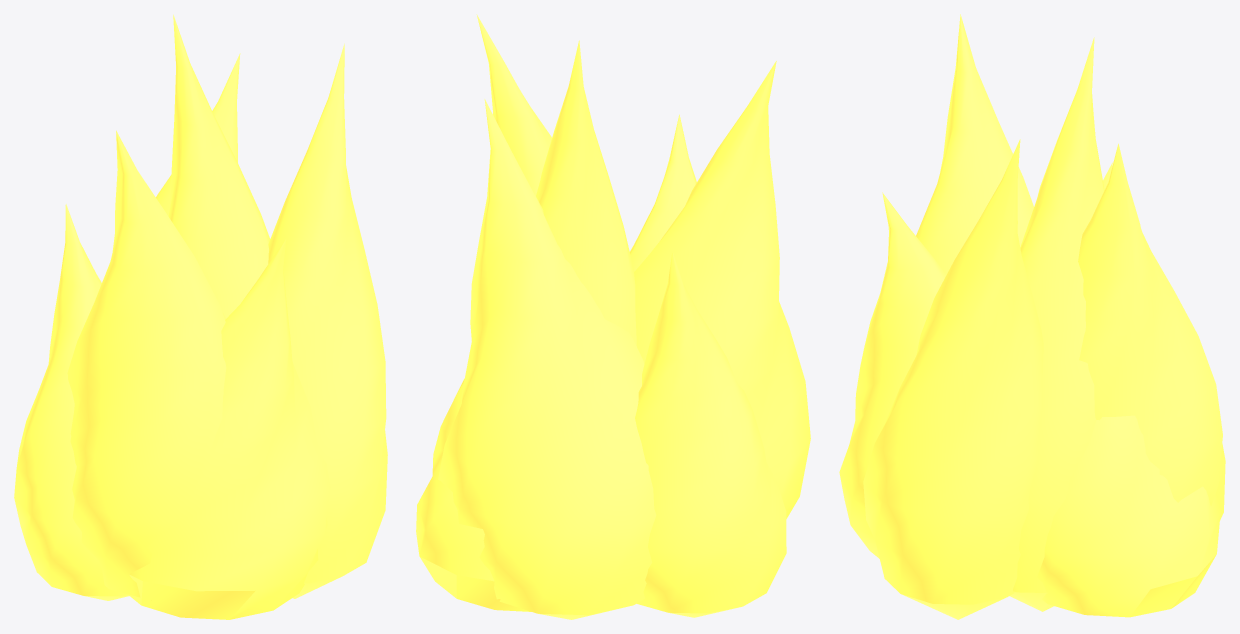
Rendered from kr_fire2_mid.glb.
3 renders of one model, left to right at view 1: azimuth 30°, elevation 25°; view 2: azimuth 150°, elevation 25°; view 3: azimuth 270°, elevation 25°, orthographic. The views are drawn at different scales.
Parts seen in each view (by area): view 1: kr_fire2_mid_fl_mid; view 2: kr_fire2_mid_fl_mid; view 3: kr_fire2_mid_fl_mid.
Part boxes in pixels (box(x1,y1,x2,y2)): kr_fire2_mid_fl_mid: box(14, 14, 387, 619); kr_fire2_mid_fl_mid: box(416, 14, 810, 619); kr_fire2_mid_fl_mid: box(839, 14, 1225, 619).
Bounding box in the file's own units: 0.4756 × 0.8173 × 0.5139.
